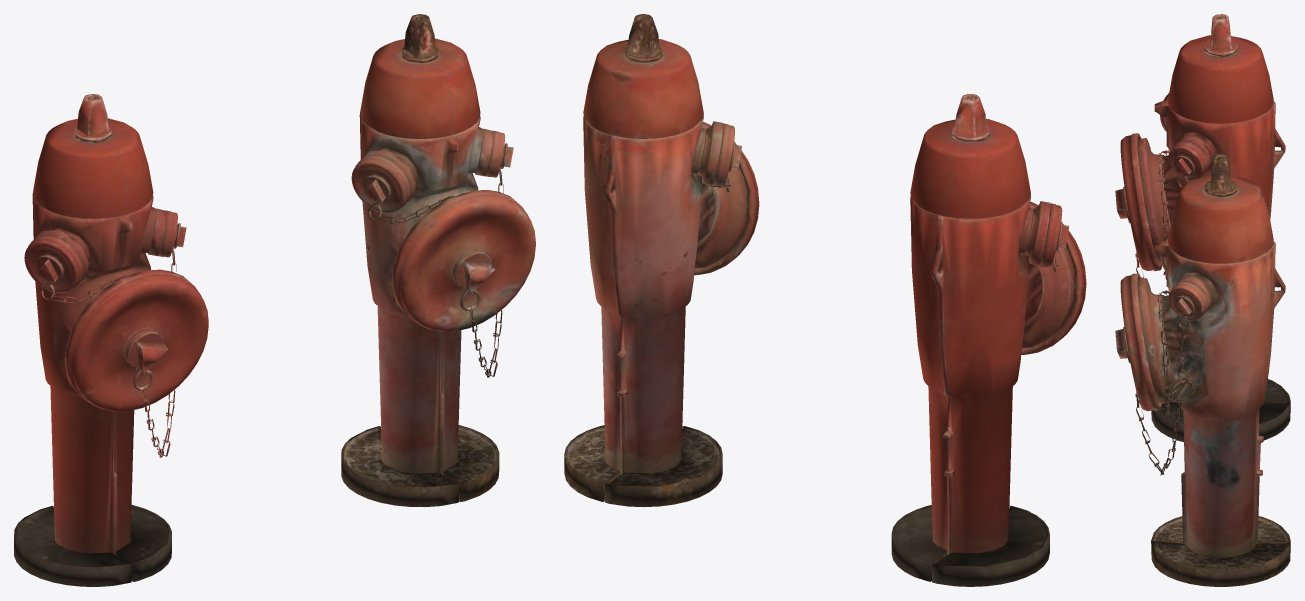
The picture shows the model from 3 angles, left to right: view 1: azimuth 30°, elevation 25°; view 2: azimuth 150°, elevation 25°; view 3: azimuth 270°, elevation 25°; orthographic projection. The views are drawn at different scales.
Parts seen in each view (by area): view 1: fire_hydrant_aged, fire_hydrant, fire_hydrant_cap_01, fire_hydrant_cap_01_aged, fire_hydrant_cap_03, fire_hydrant_cap_03_aged, fire_hydrant_chain_aged, fire_hydrant_chain, fire_hydrant_cap_02_aged, fire_hydrant_cap_02; view 2: fire_hydrant, fire_hydrant_aged, fire_hydrant_cap_01, fire_hydrant_cap_01_aged, fire_hydrant_cap_03_aged, fire_hydrant_cap_03; view 3: fire_hydrant_aged, fire_hydrant, fire_hydrant_cap_01_aged, fire_hydrant_cap_01, fire_hydrant_chain_aged, fire_hydrant_cap_02_aged, fire_hydrant_cap_02, fire_hydrant_chain.
Boxes of the visible parts, x1,y1,x2,y2 form: fire_hydrant_aged: [341, 14, 499, 506]; fire_hydrant: [14, 94, 171, 586]; fire_hydrant_cap_01: [64, 269, 208, 411]; fire_hydrant_cap_01_aged: [392, 190, 535, 331]; fire_hydrant_cap_03: [24, 235, 83, 293]; fire_hydrant_cap_03_aged: [351, 155, 410, 213]; fire_hydrant_chain_aged: [367, 145, 504, 377]; fire_hydrant_chain: [40, 224, 177, 457]; fire_hydrant_cap_02_aged: [485, 130, 513, 177]; fire_hydrant_cap_02: [158, 210, 186, 257]; fire_hydrant: [891, 94, 1074, 586]; fire_hydrant_aged: [564, 14, 747, 507]; fire_hydrant_cap_01: [1021, 201, 1086, 354]; fire_hydrant_cap_01_aged: [694, 122, 759, 275]; fire_hydrant_cap_03_aged: [712, 123, 741, 186]; fire_hydrant_cap_03: [1039, 203, 1069, 266]; fire_hydrant_aged: [1138, 154, 1290, 586]; fire_hydrant: [1138, 14, 1290, 441]; fire_hydrant_cap_01_aged: [1115, 273, 1161, 411]; fire_hydrant_cap_01: [1115, 133, 1161, 271]; fire_hydrant_chain_aged: [1135, 290, 1195, 475]; fire_hydrant_cap_02_aged: [1168, 281, 1208, 320]; fire_hydrant_cap_02: [1168, 141, 1208, 180]; fire_hydrant_chain: [1135, 149, 1193, 279].
Size of the model in its own units: 0.8746 by 0.7994 by 0.3173.
2 materials, 2 textured.
